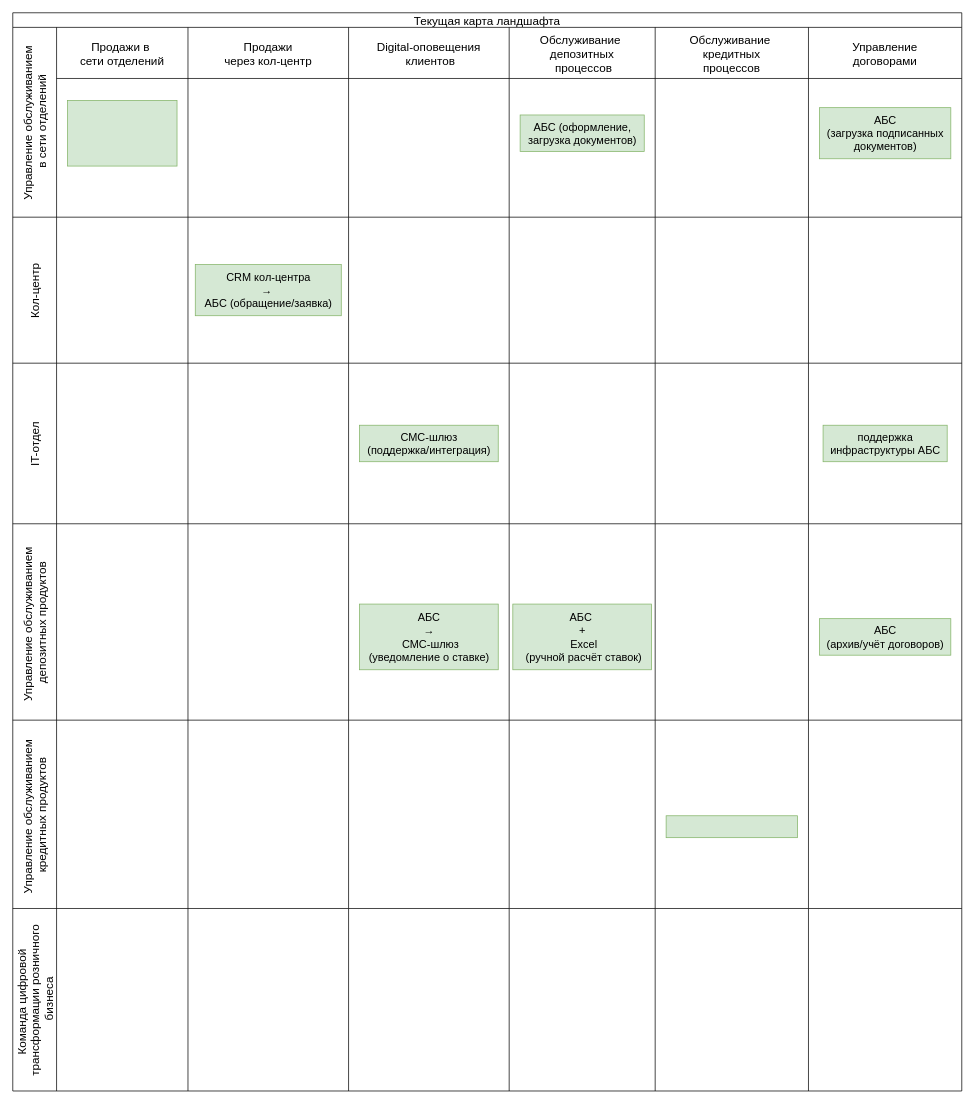
This 975x1104 diagram has some shape labels left out. Each missing label, with the box of its shape:
АБС (кредитный риск): (665, 815, 798, 838)
АБС (оформление заявки/депозита), email в бэк‑офис: (67, 100, 177, 166)
